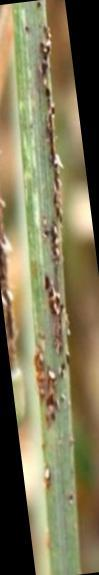Wheat: (35, 353, 65, 417), (40, 273, 66, 321), (51, 186, 65, 261), (41, 31, 53, 85), (45, 105, 56, 163)
